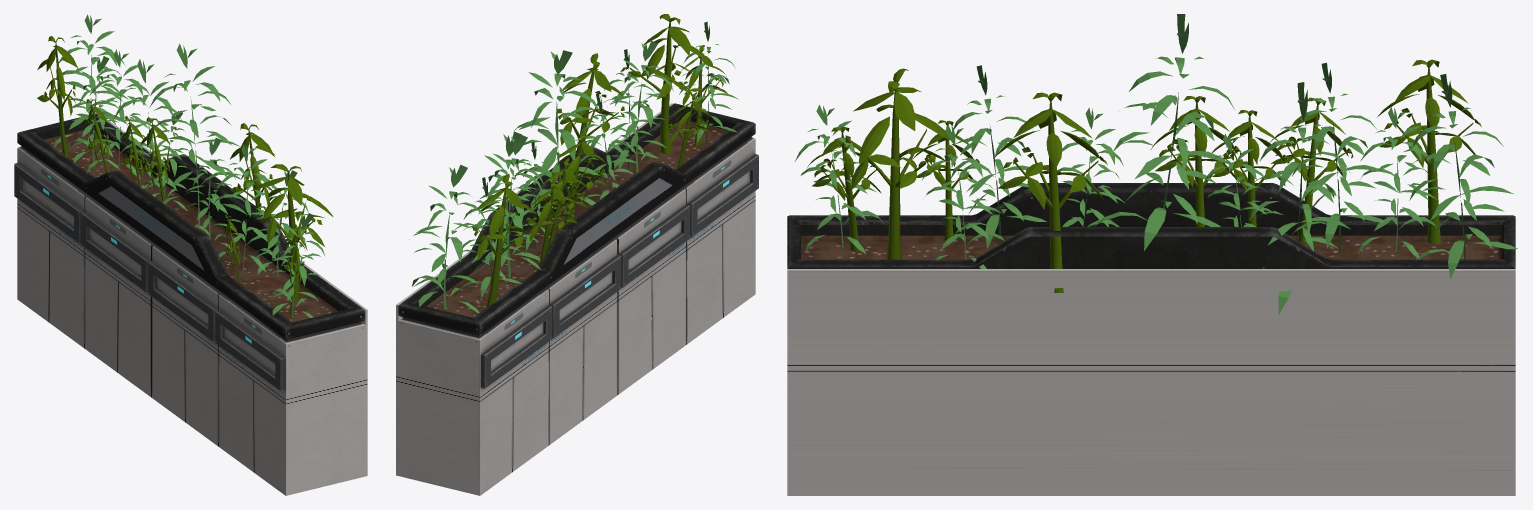
File: plant_pot.glb
The picture shows the model from 3 angles, left to right: view 1: azimuth 30°, elevation 25°; view 2: azimuth 150°, elevation 25°; view 3: azimuth 270°, elevation 25°; orthographic projection. The views are drawn at different scales.
Parts seen in each view (by area): view 1: plantpot_base6; view 2: plantpot_base6; view 3: plantpot_base6.
Part boxes in pixels (left/top/right/bottom): plantpot_base6: left=14, top=14, right=367, bottom=495; plantpot_base6: left=396, top=14, right=758, bottom=495; plantpot_base6: left=787, top=14, right=1517, bottom=495.
Bounding box in the file's own units: 0.4757 × 1.38 × 2.01.
Materials: 3 (1 with a texture image).
